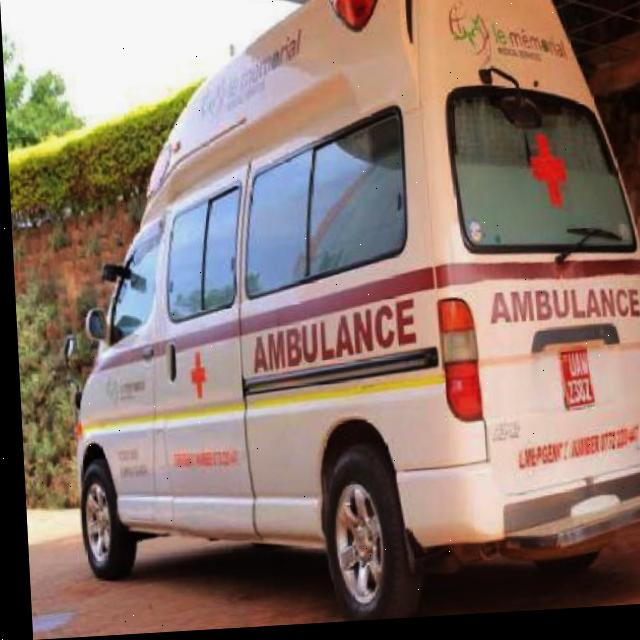emergency: (46, 0, 640, 638)
